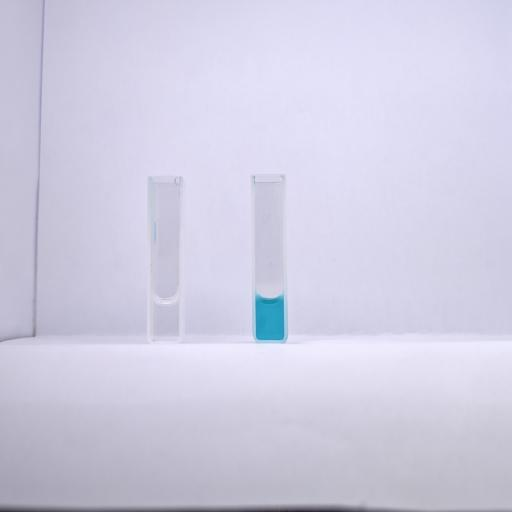cuvette: (248, 169, 290, 345), (146, 173, 186, 347)
liquid: (151, 296, 180, 342), (256, 297, 284, 339)
